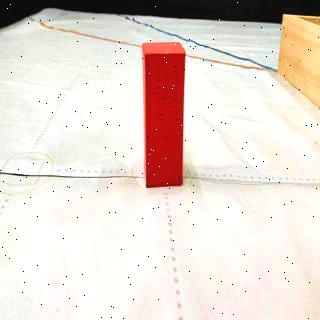redbox: (144, 42, 186, 187)
